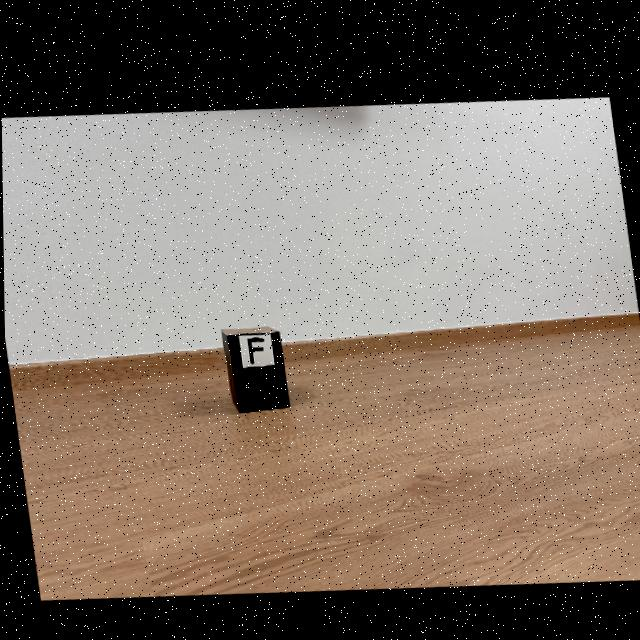F: (246, 332, 263, 358)
